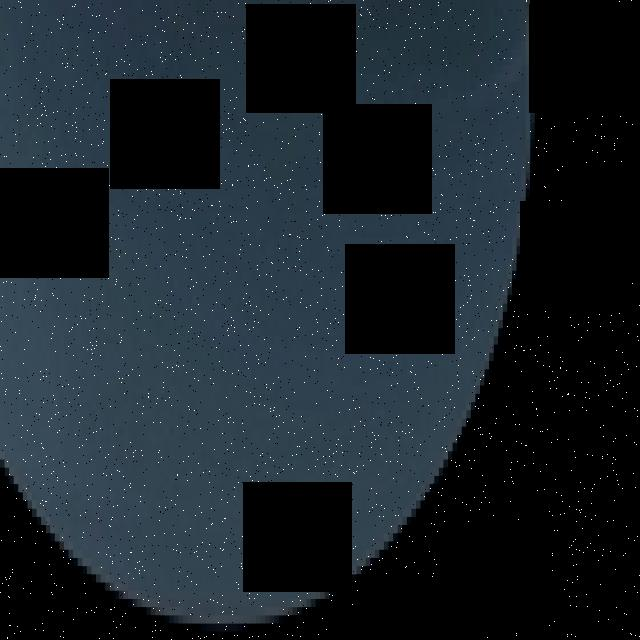Uranus: (0, 0, 535, 624)
